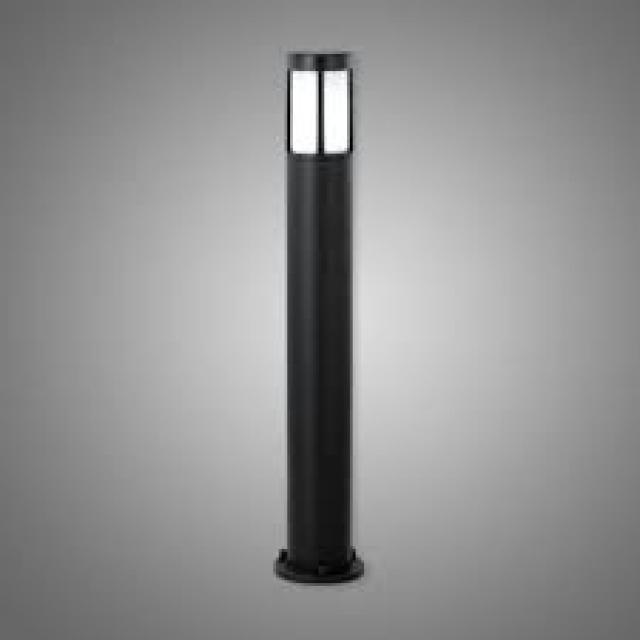bollard: (272, 34, 373, 591)
